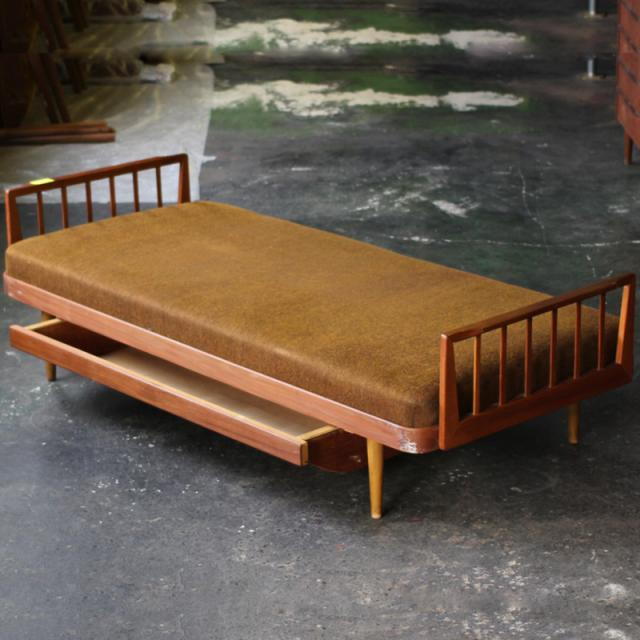bed vintage: (1, 144, 640, 519)
